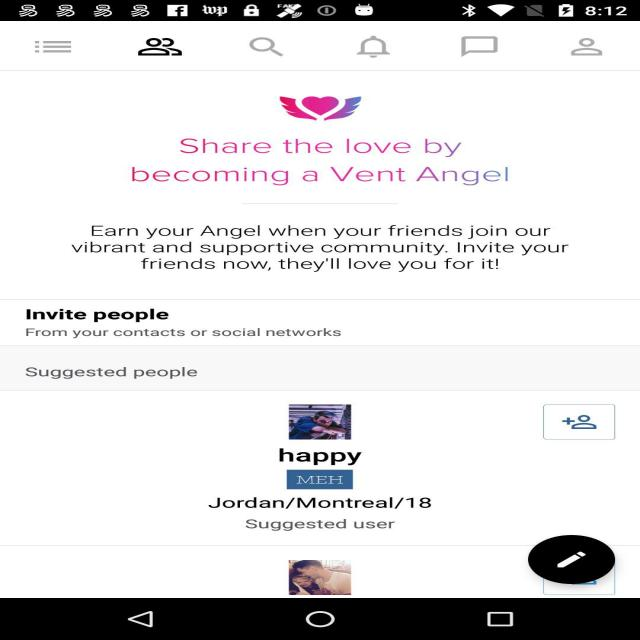text: (77, 125, 586, 274)
